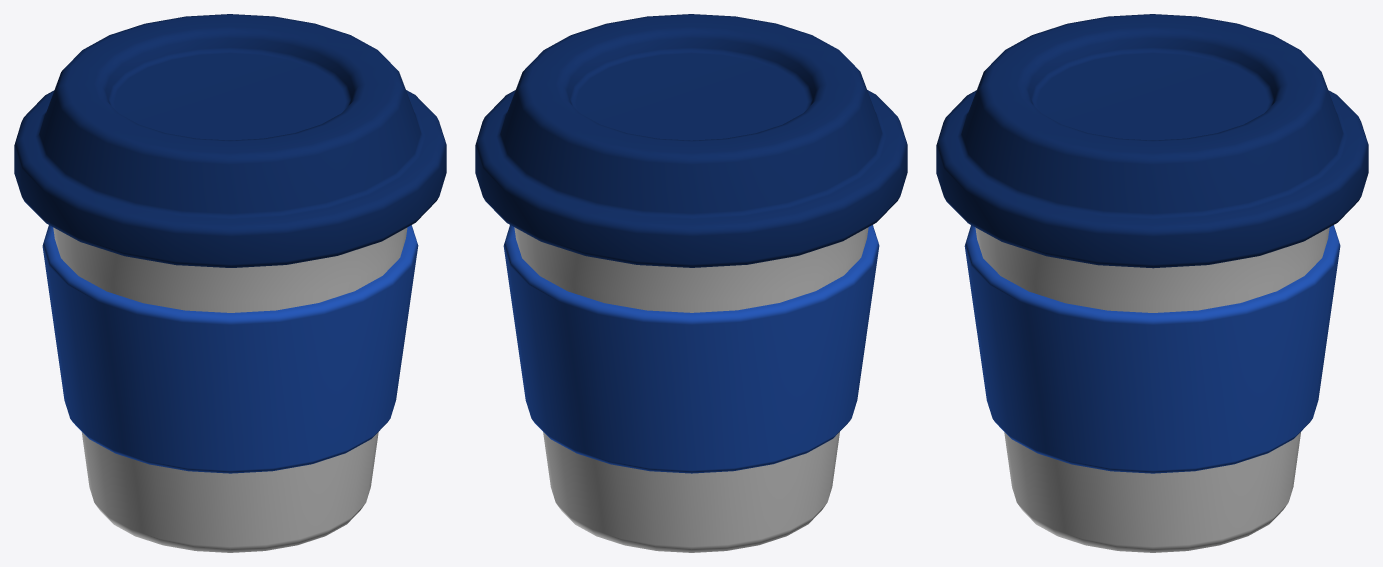
File: cafe_blue.fbx
3 renders of one model, left to right at view 1: azimuth 30°, elevation 25°; view 2: azimuth 150°, elevation 25°; view 3: azimuth 270°, elevation 25°, orthographic.
Parts seen in each view (by area): view 1: polySurface138, box4_inner3; view 2: polySurface138, box4_inner3; view 3: polySurface138, box4_inner3.
Boxes of the visible parts, <box> form: polySurface138: <box>42,225,418,552</box>; box4_inner3: <box>14,14,446,267</box>; polySurface138: <box>503,225,879,552</box>; box4_inner3: <box>475,14,907,267</box>; polySurface138: <box>964,225,1340,552</box>; box4_inner3: <box>936,14,1368,268</box>.
Bounding box in the file's own units: 3.77 × 4 × 3.77.
